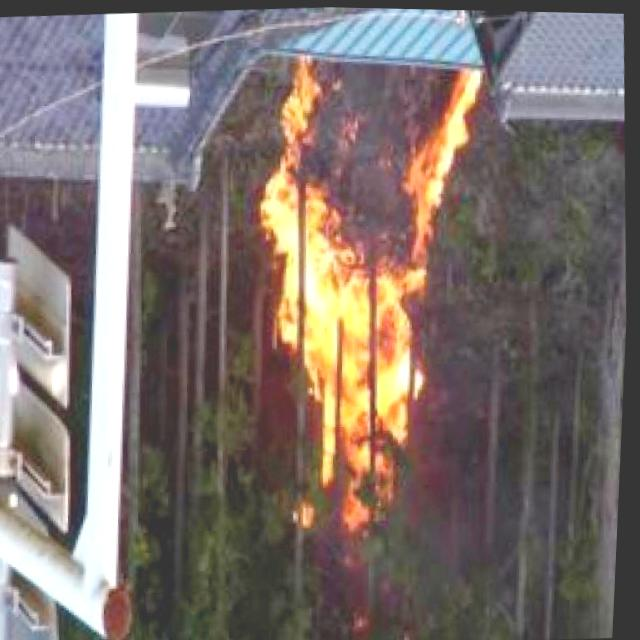Fire: (243, 42, 495, 532)
